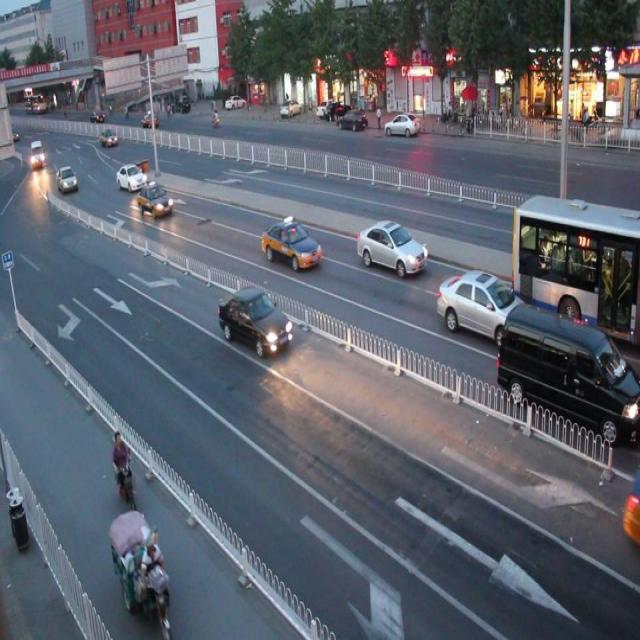car: (436, 266, 532, 346), (217, 283, 292, 357), (355, 218, 429, 279), (261, 217, 322, 272), (138, 183, 172, 215)
truck: (496, 300, 640, 446)
van: (510, 193, 640, 350)
